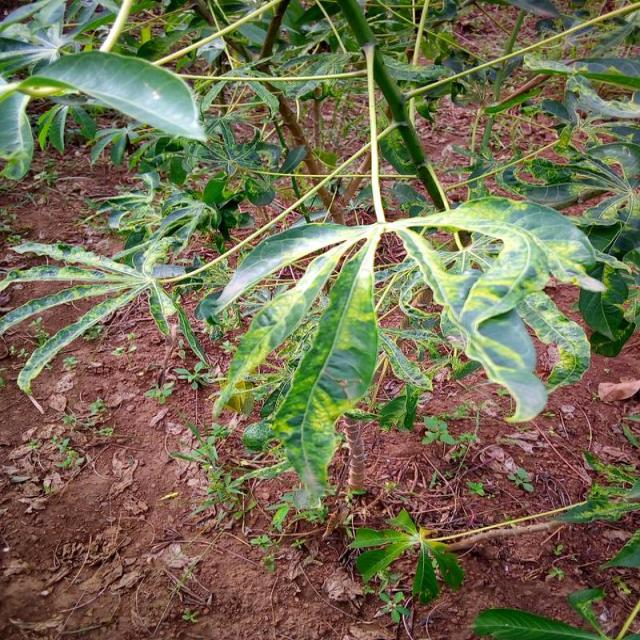cassava leaf: (392, 194, 606, 424), (272, 236, 378, 509), (31, 48, 208, 144)
